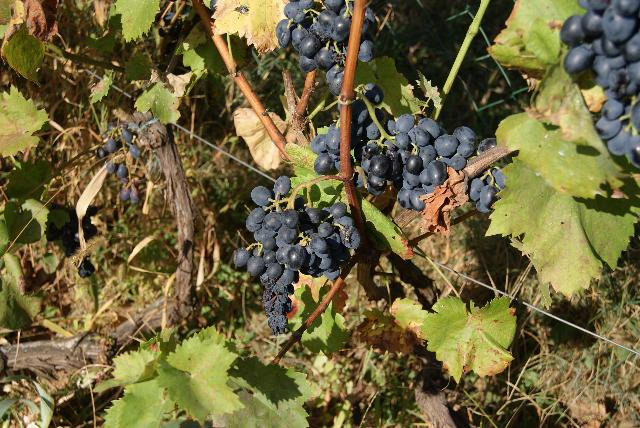grapes: (234, 176, 360, 335), (350, 82, 496, 211), (560, 0, 640, 168), (275, 0, 354, 72)
